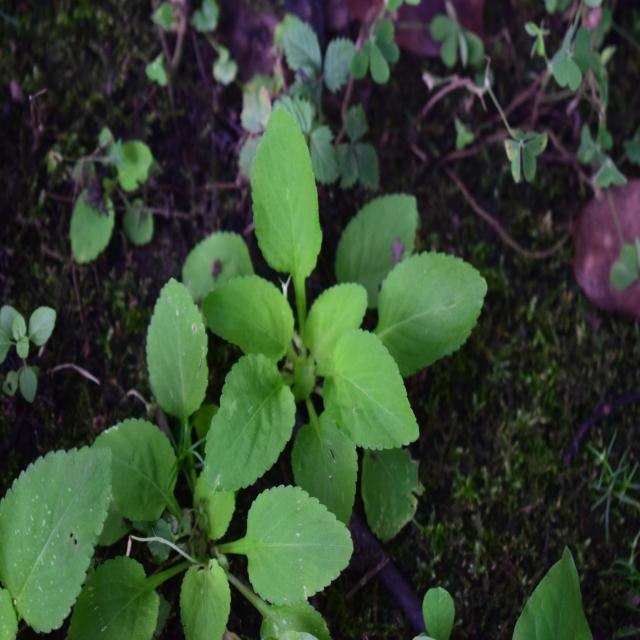Viola: (33, 306, 361, 628), (188, 121, 468, 495)
